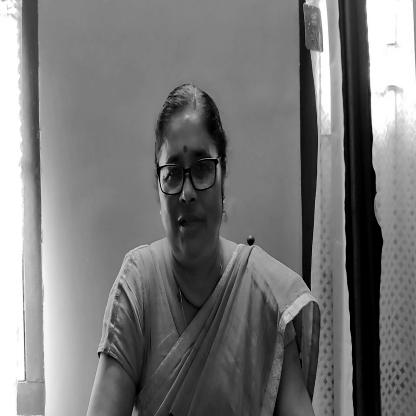Normal: (151, 94, 232, 263)
